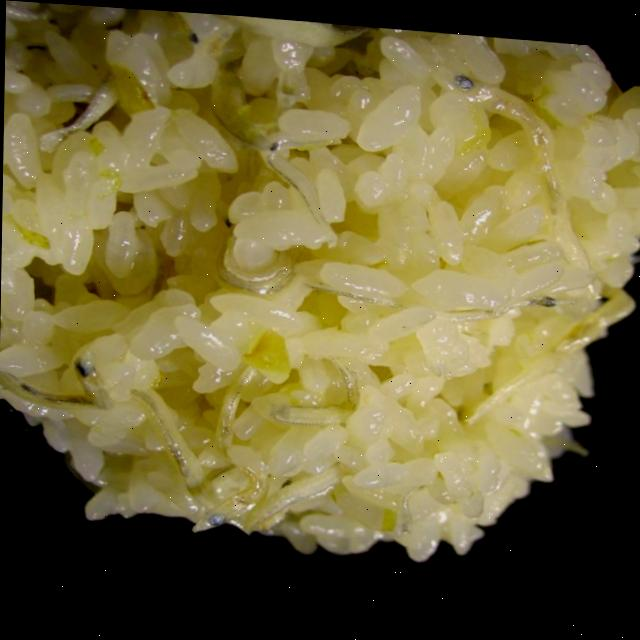米饭主食: (17, 1, 640, 596)
